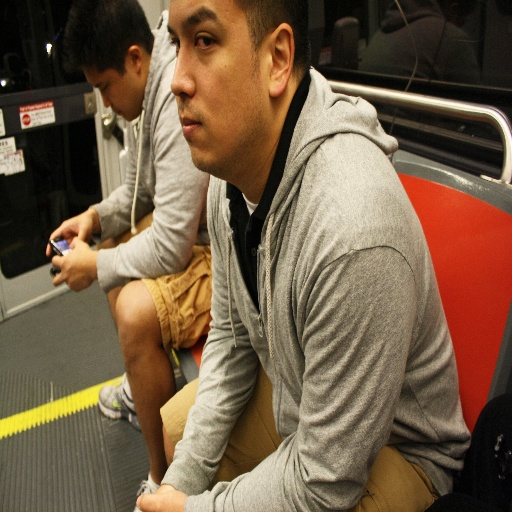hand: (52, 236, 94, 293), (135, 488, 188, 511), (153, 482, 174, 493)
